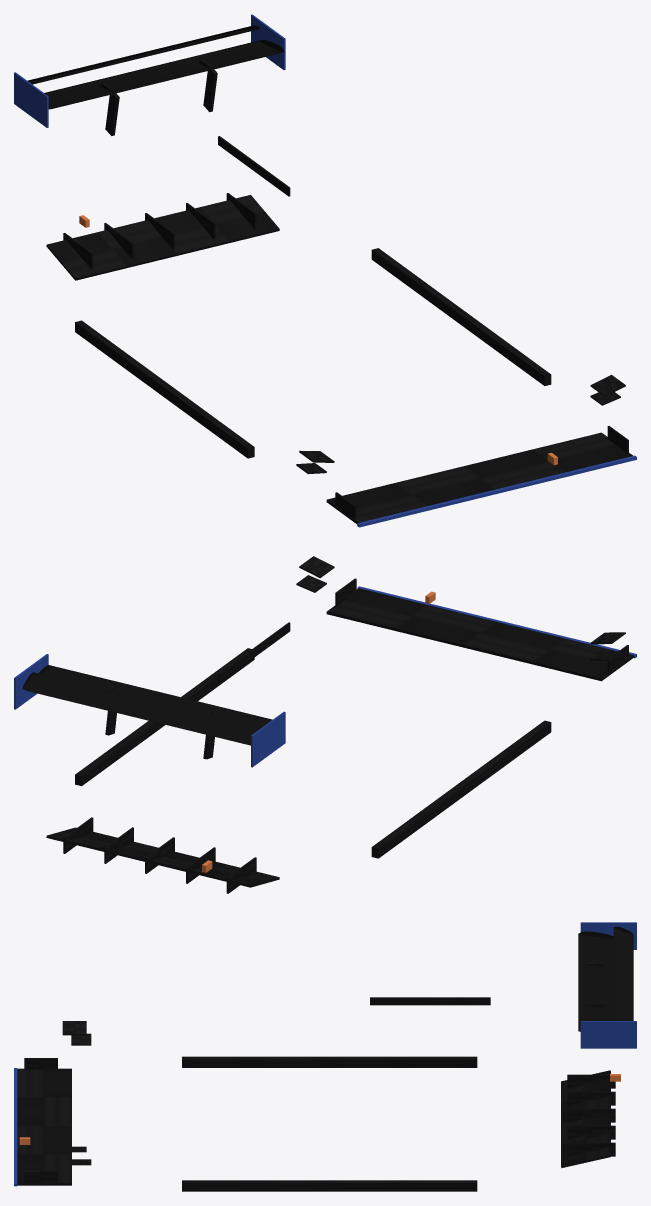
Rendered from aero_12.glb.
3 renders of one model, top to bottom at view 1: azimuth 30°, elevation 25°; view 2: azimuth 150°, elevation 25°; view 3: azimuth 270°, elevation 25°, orthographic. The views are drawn at different scales.
Visible parts, largest first — view 1: carbon, accent; view 2: carbon, accent; view 3: carbon, accent.
Part boxes in pixels (box(x1,y1,x2,y2)): carbon: box(27, 25, 632, 524); accent: box(14, 14, 636, 527); carbon: box(22, 556, 633, 893); accent: box(14, 586, 636, 767); carbon: box(17, 926, 633, 1191); accent: box(14, 922, 636, 1186).
Bounding box in the file's own units: 2.3 × 1.28 × 4.64.
3 materials, 1 textured.
